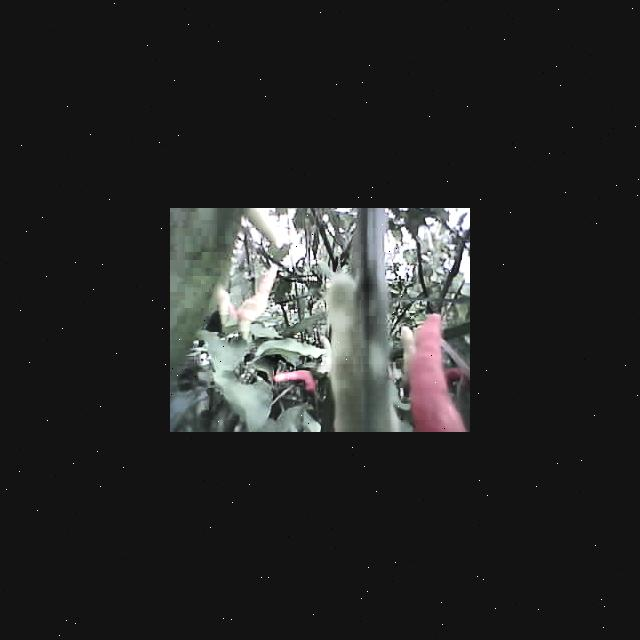Cabai: (420, 311, 465, 432), (238, 261, 277, 324), (274, 371, 322, 394)
